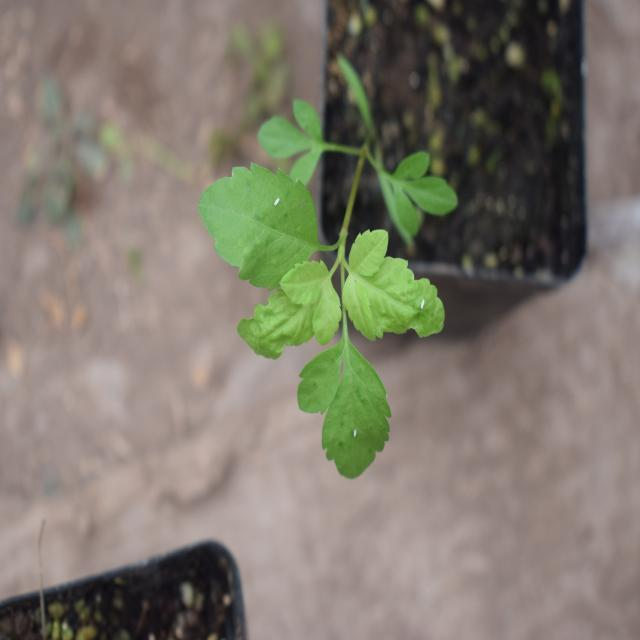Bidens pilosa: (197, 77, 451, 488)
